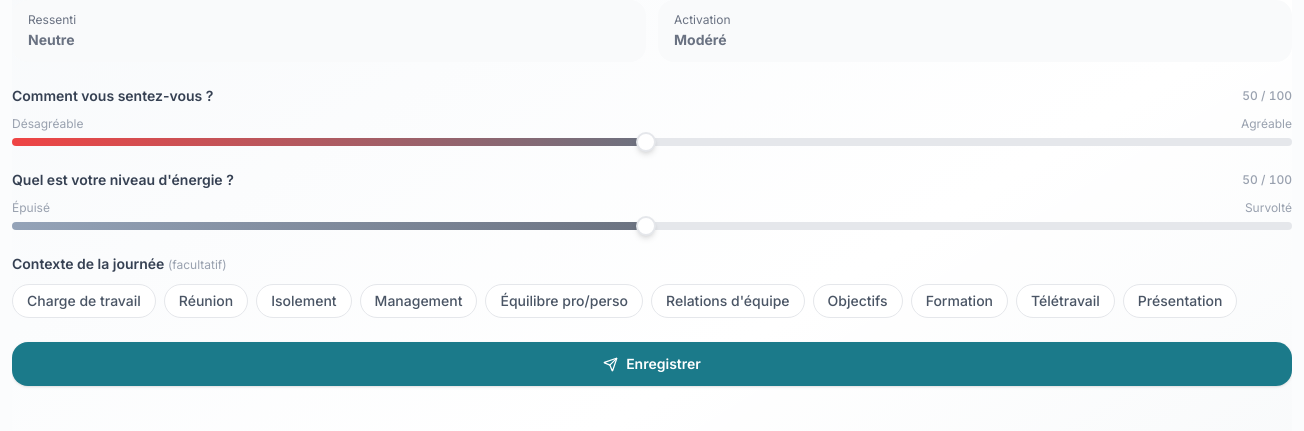
Test: MoodForm — Tags de contexte professionnel › sélectionne un tag au clic
The width and height of the screenshot is (1304, 431).
Click the button "Réunion": [206, 301] box [164, 284, 248, 318]
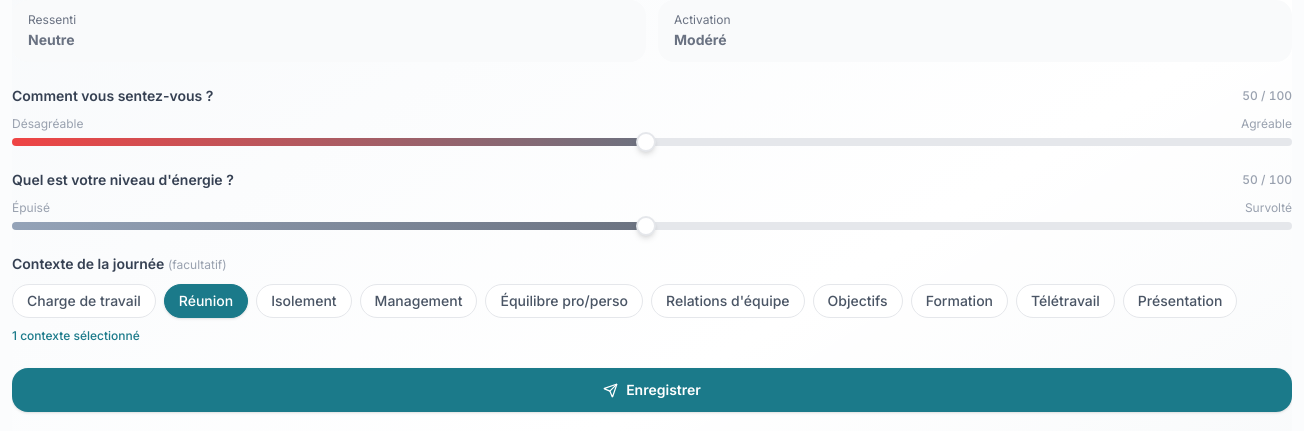
expect the text "1 contexte sélectionné" is shown: met, box [12, 328, 140, 343]
